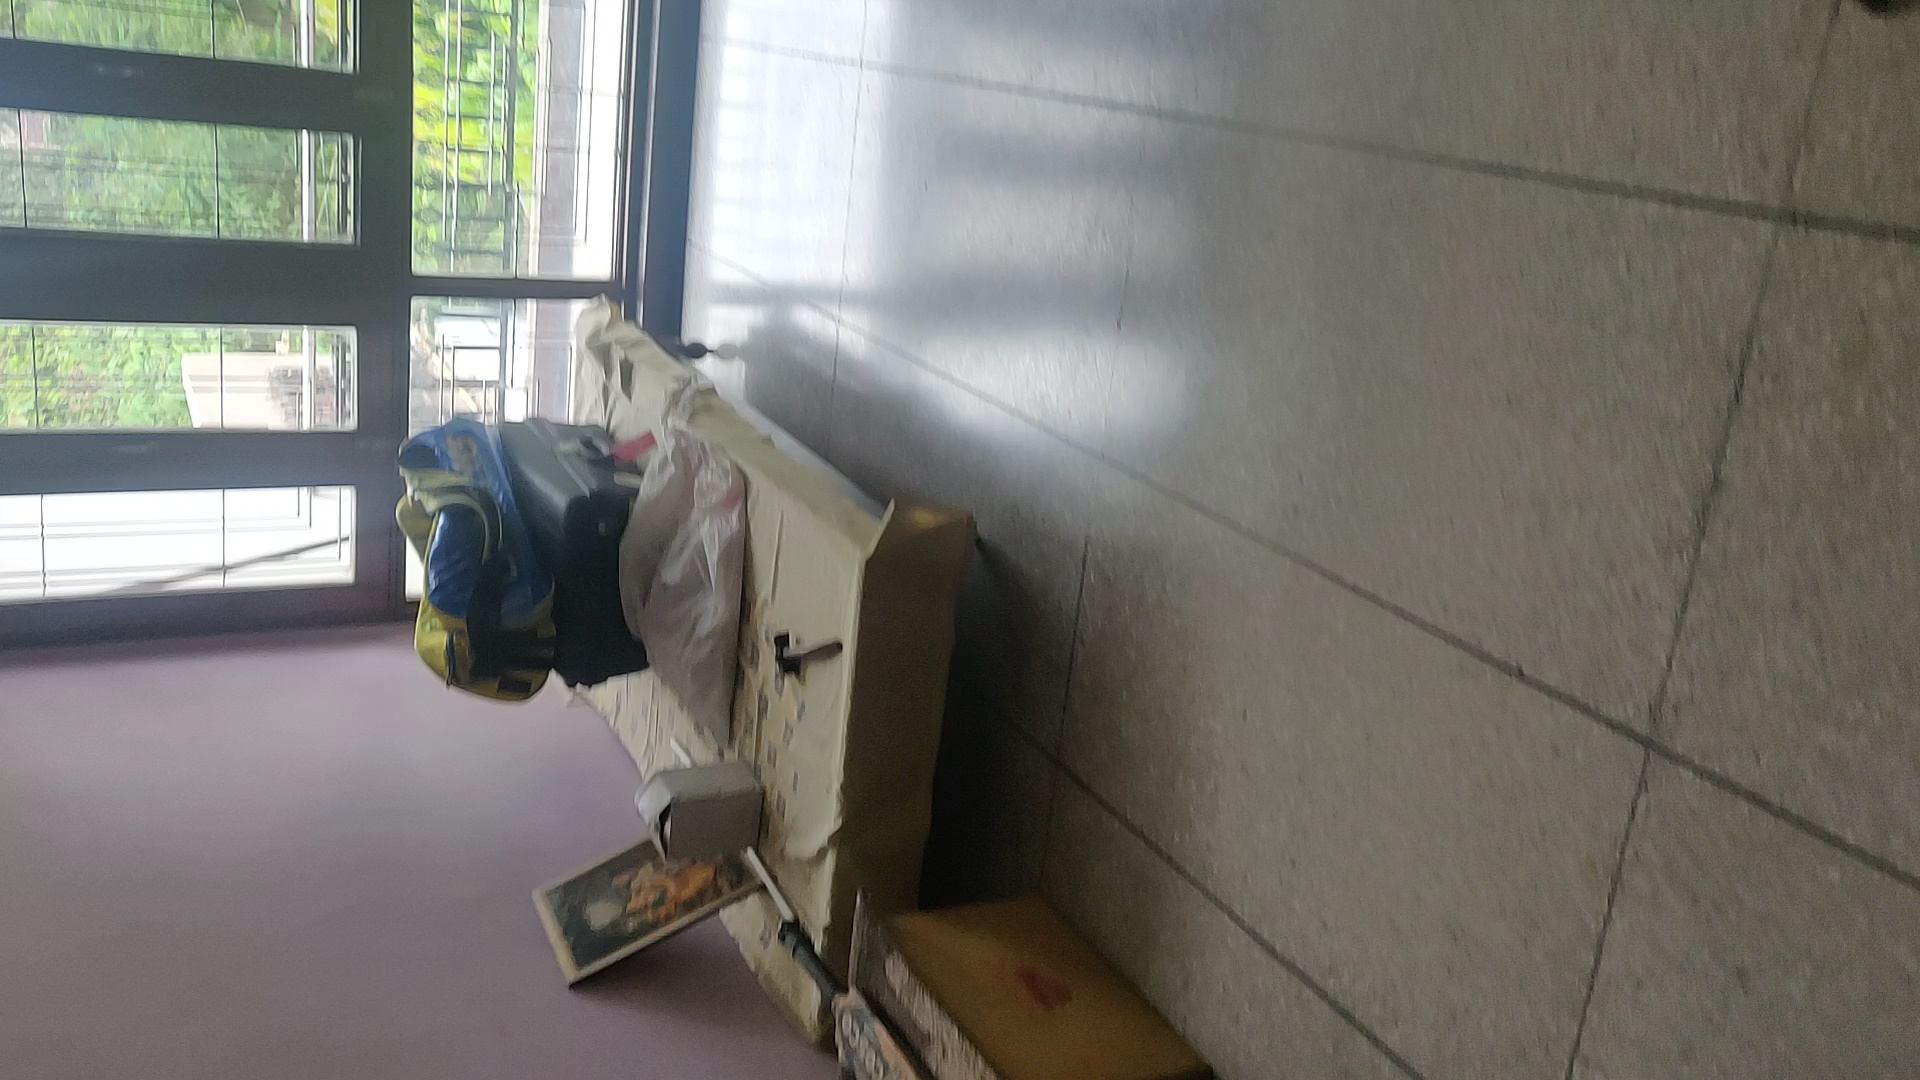hammer: (766, 628, 844, 680)
